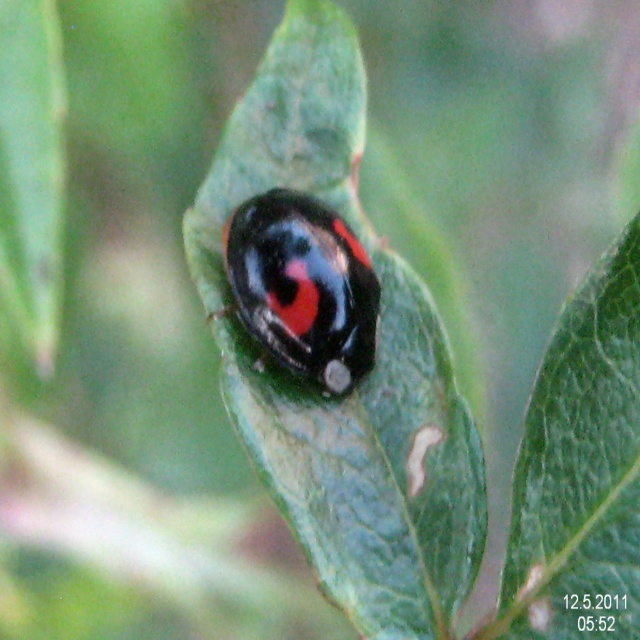Ladybug: (214, 175, 391, 397)
